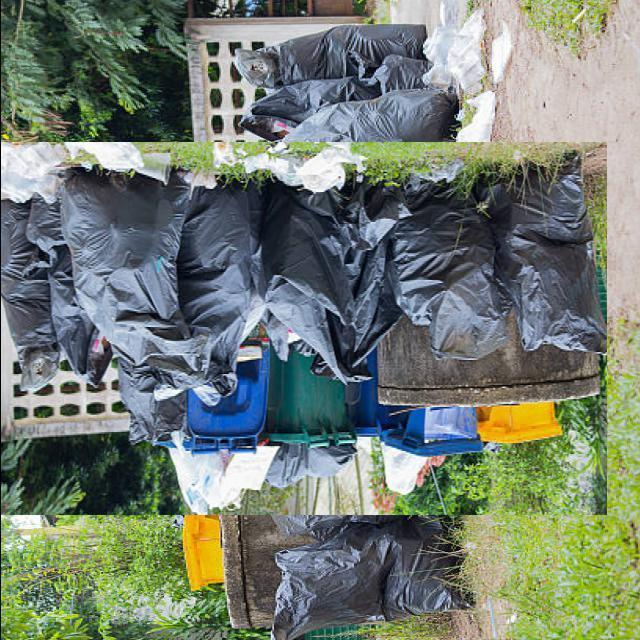Trashbag: (54, 159, 194, 391), (250, 504, 473, 640), (259, 178, 401, 382), (395, 185, 519, 372), (494, 162, 608, 355), (186, 186, 270, 377), (244, 17, 429, 90), (4, 194, 71, 374), (288, 92, 462, 153)
